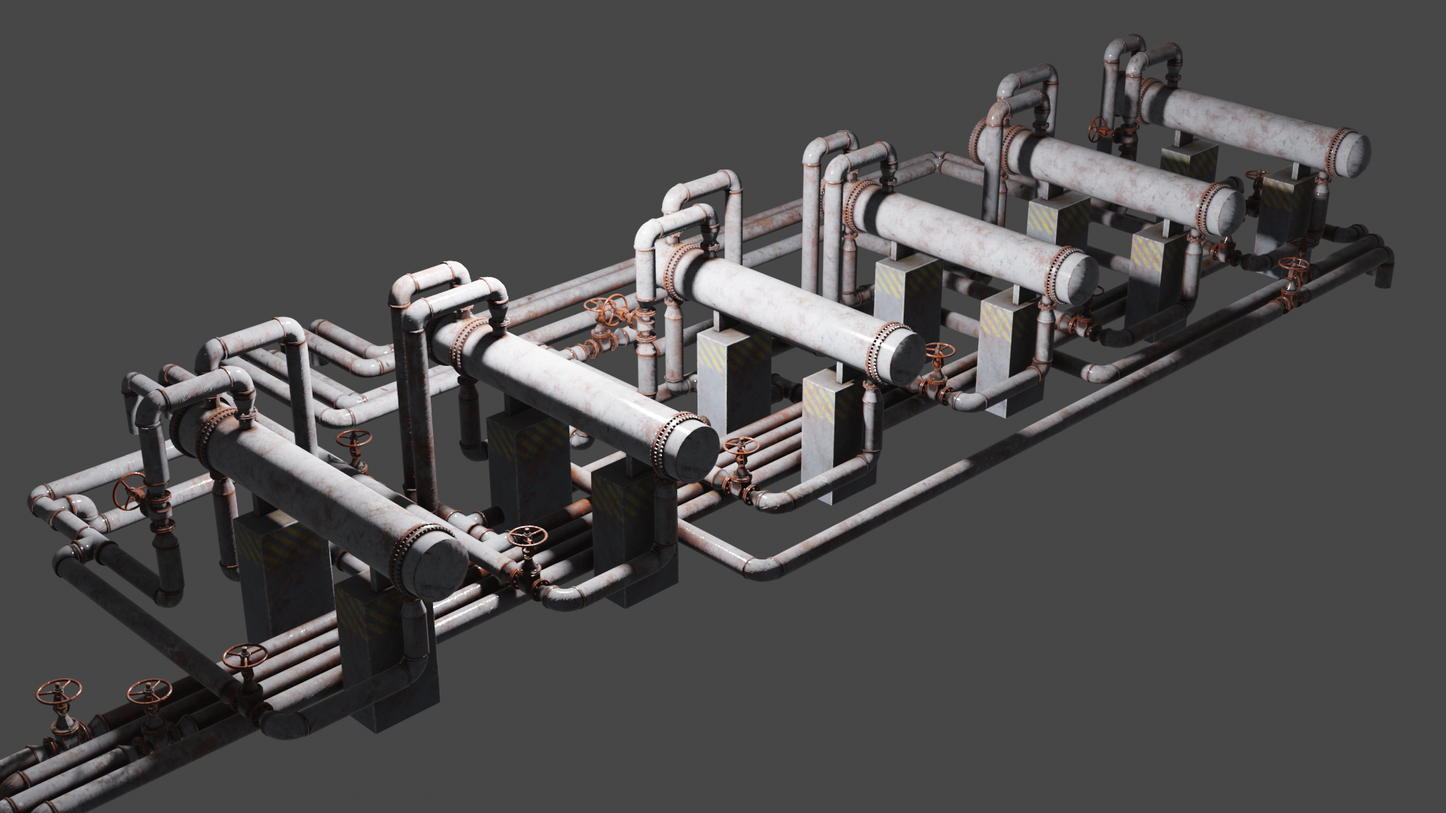HE_1: (1132, 76, 1372, 178)
HE_2: (966, 112, 1239, 230)
HE_3: (839, 172, 1093, 306)
HE_4: (653, 238, 923, 382)
HE_5: (427, 309, 722, 482)
HE_6: (164, 396, 472, 600)
